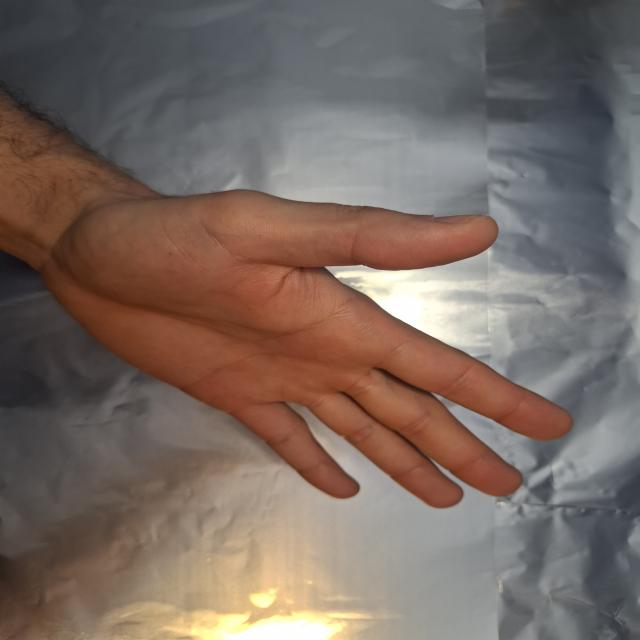glove_off: (30, 150, 578, 512)
